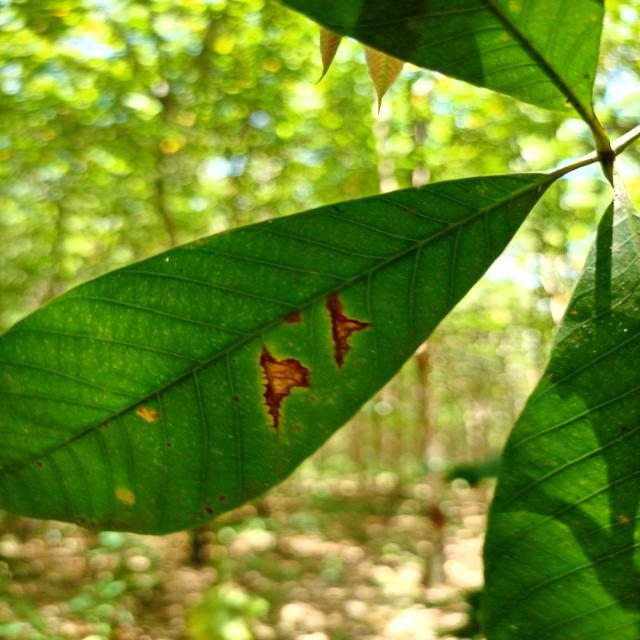Corynespora: (259, 343, 311, 434), (326, 289, 372, 369)
